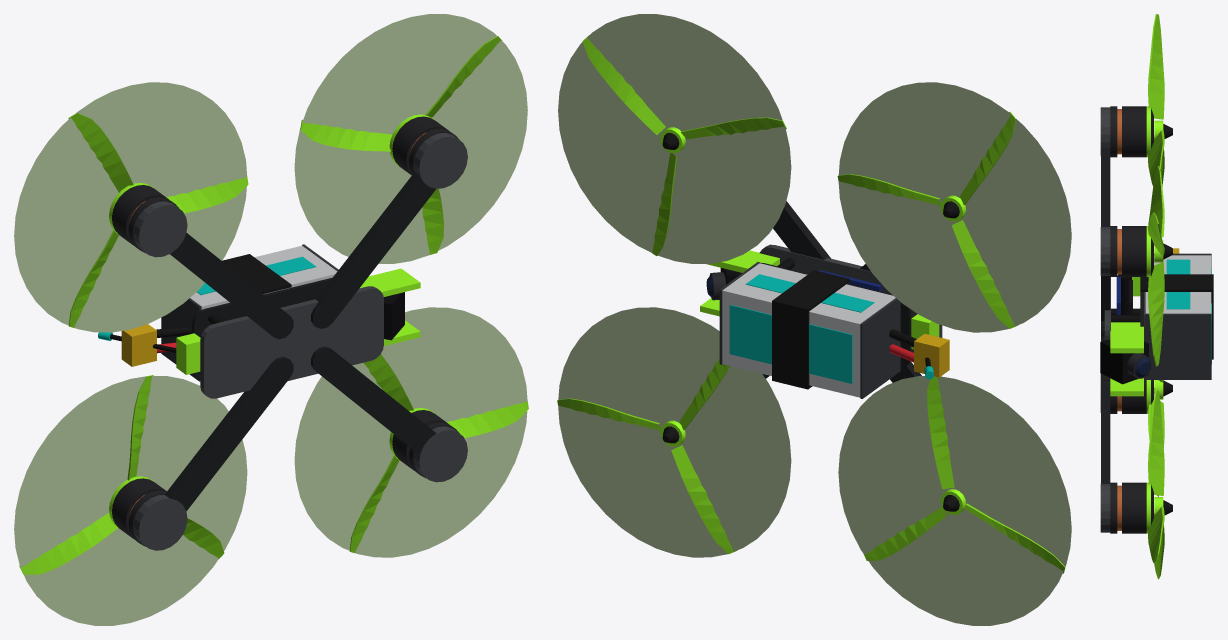
File: exterior.glb
3 views of the same model, side by side, from view 1: azimuth 30°, elevation 25°; view 2: azimuth 150°, elevation 25°; view 3: azimuth 270°, elevation 25° (orthographic). The views are drawn at different scales.
Parts seen in each view (by area): view 1: frame, disc_1, disc_2, disc_3, disc_4, motors, battery, prop_1, prop_3, prop_2, prop_4, camera; view 2: disc_1, disc_2, disc_3, disc_4, battery, frame, prop_2, prop_1, prop_3, prop_4; view 3: motors, battery, frame, prop_2, prop_4, prop_1, camera, stack, prop_3.
Boxes of the visible parts, box(x1,y1,x2,y2) form: frame: box(98, 133, 467, 550); disc_1: box(14, 82, 247, 332); disc_2: box(294, 14, 527, 263); disc_3: box(14, 376, 247, 625); disc_4: box(294, 307, 527, 557); motors: box(109, 114, 459, 546); battery: box(161, 244, 338, 381); prop_1: box(68, 113, 248, 328); prop_3: box(19, 375, 224, 574); prop_2: box(300, 36, 502, 254); prop_4: box(349, 354, 528, 552); camera: box(383, 292, 404, 340); disc_1: box(838, 82, 1071, 332); disc_2: box(558, 14, 791, 263); disc_3: box(838, 376, 1071, 625); disc_4: box(558, 307, 791, 557); battery: box(719, 262, 900, 398); frame: box(700, 201, 949, 382); prop_2: box(582, 35, 786, 255); prop_1: box(837, 112, 1018, 328); prop_3: box(864, 376, 1065, 573); prop_4: box(557, 359, 737, 554); motors: box(1110, 106, 1153, 533); battery: box(1140, 253, 1213, 379); frame: box(1100, 107, 1179, 532); prop_2: box(1148, 166, 1172, 366); prop_4: box(1148, 390, 1172, 579); prop_1: box(1148, 14, 1172, 186); camera: box(1100, 339, 1151, 384); stack: box(1116, 274, 1132, 314); prop_3: box(1148, 380, 1172, 496).
Size of the model in its own units: 0.2851 by 0.2851 by 0.0622.
